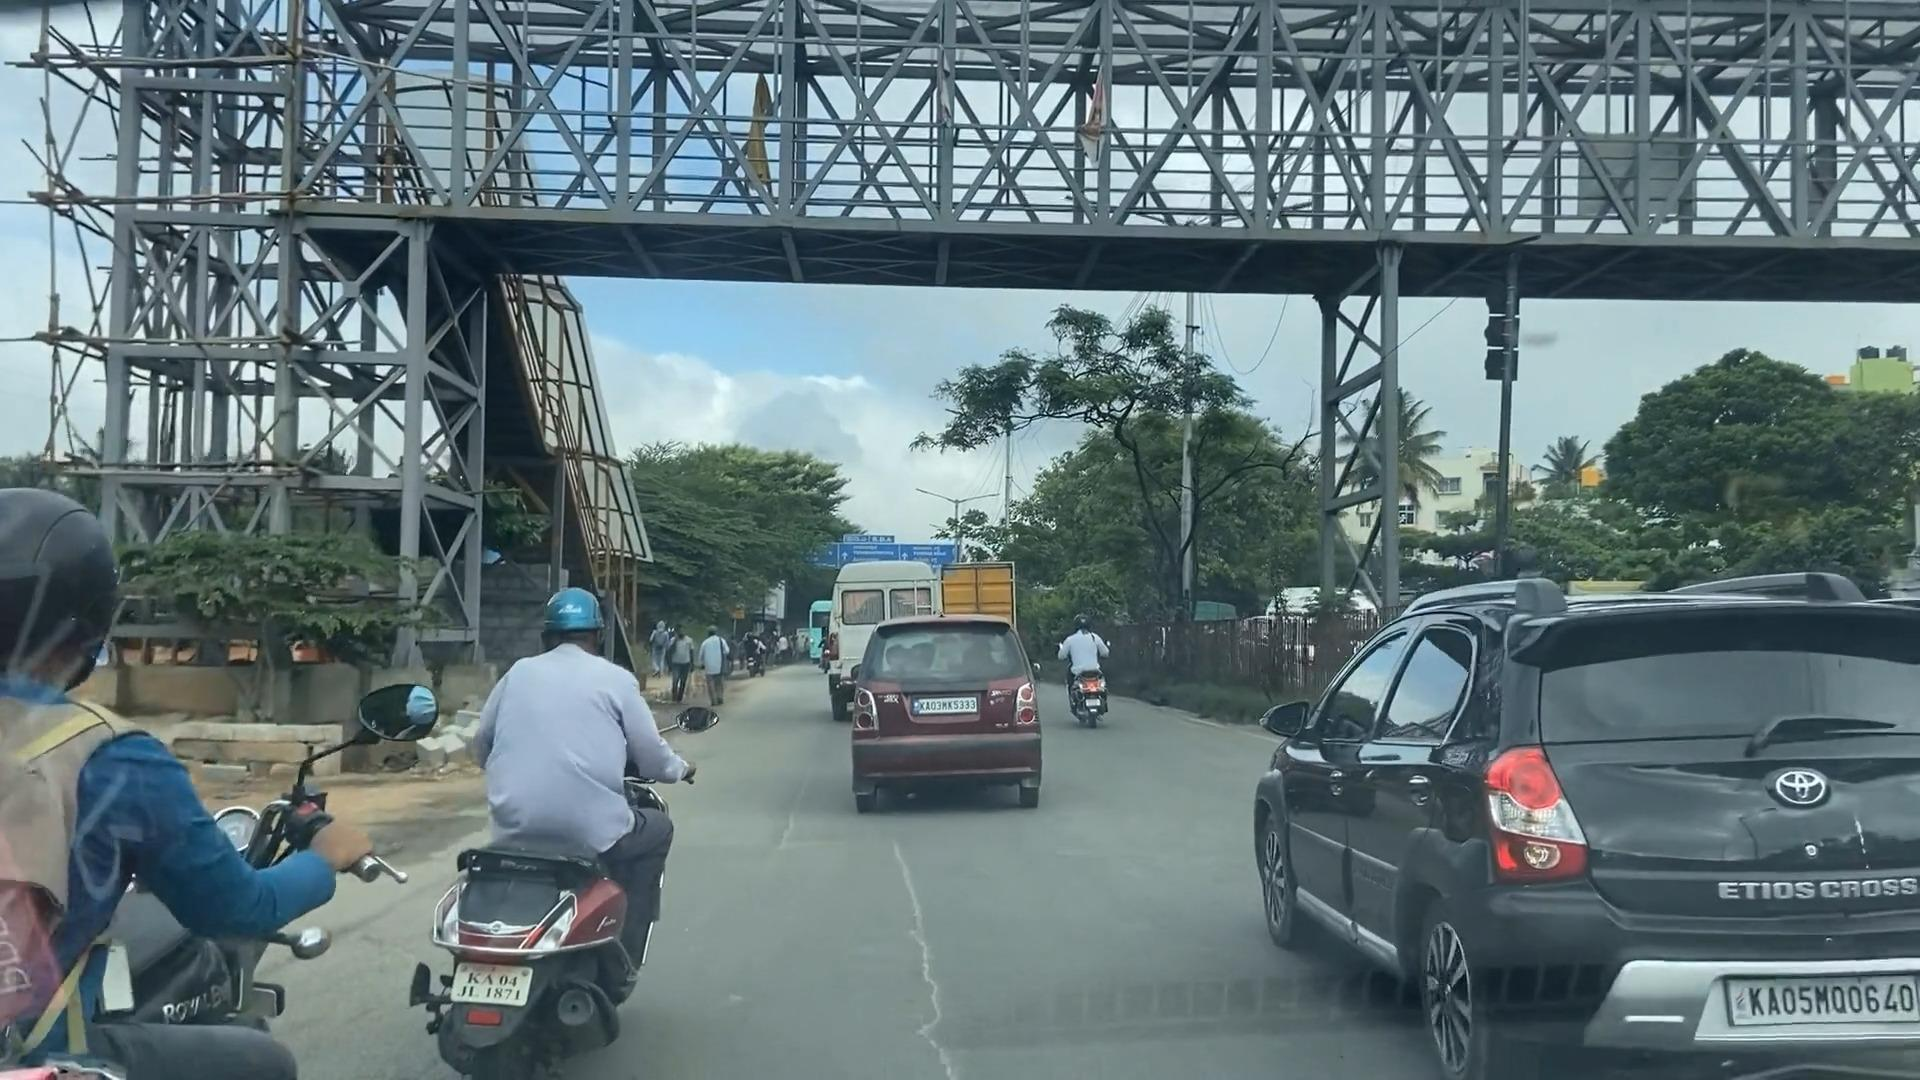LMV: (855, 628, 1038, 791), (1052, 618, 1117, 725)
RoadDamages: (876, 832, 964, 1080), (770, 766, 831, 858)
